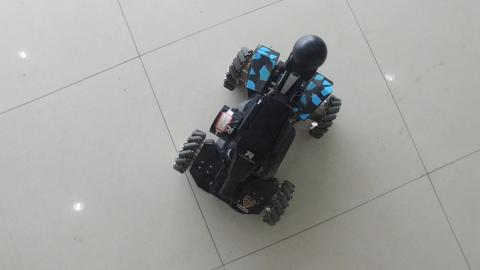chariot: (171, 20, 331, 226)
